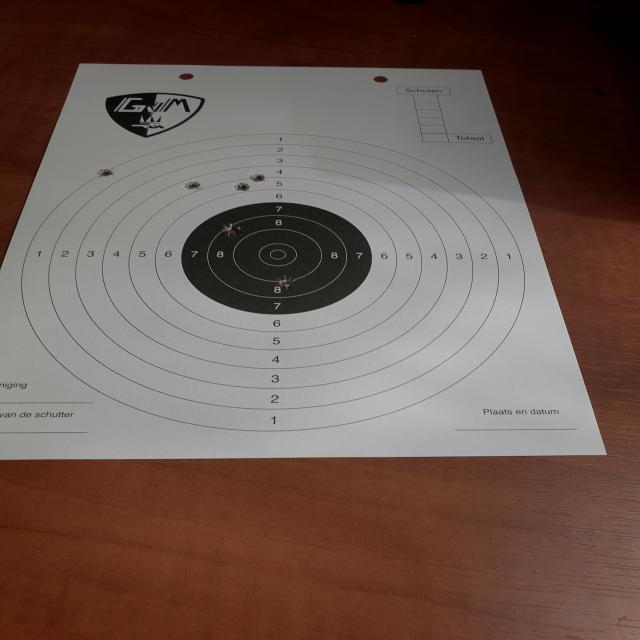1: (94, 167, 114, 177)
4: (183, 178, 202, 191)
5: (246, 171, 268, 183), (230, 180, 249, 193)
8: (222, 222, 244, 238)
9: (274, 275, 298, 290)
Target: (21, 132, 526, 434)
black_contour: (182, 202, 372, 316)
